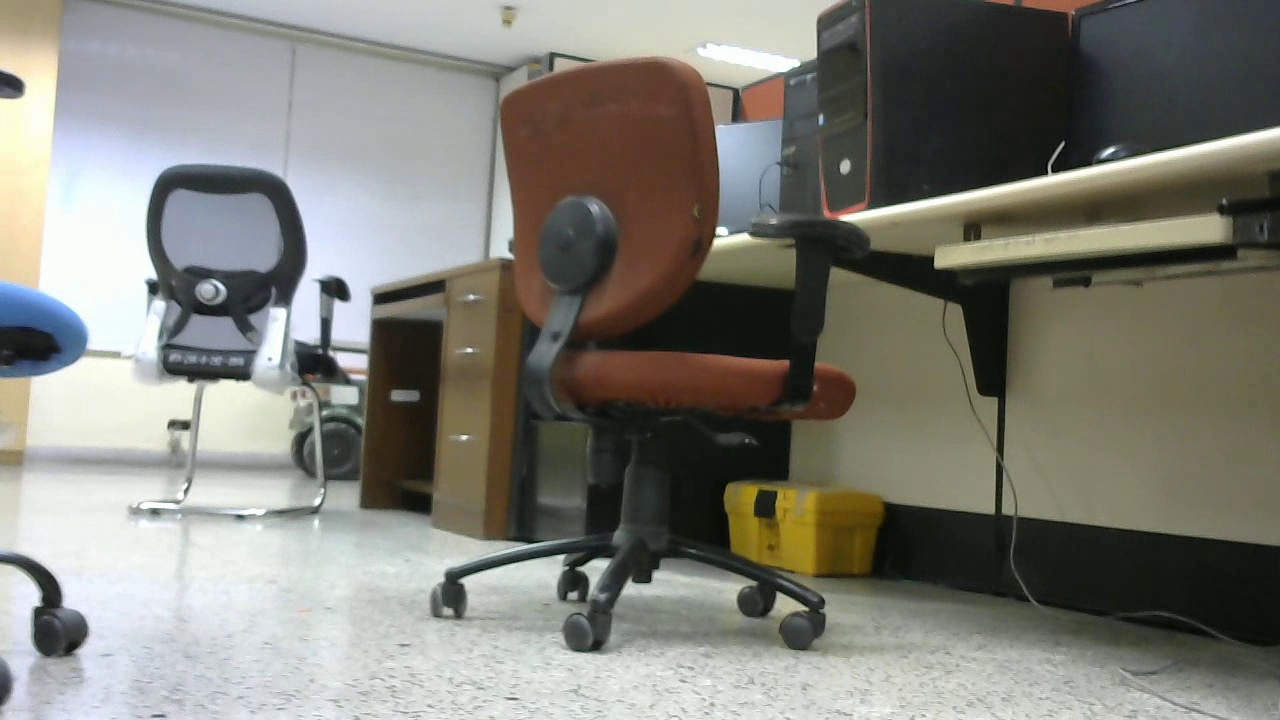chair: (421, 49, 829, 654), (136, 158, 328, 526)
